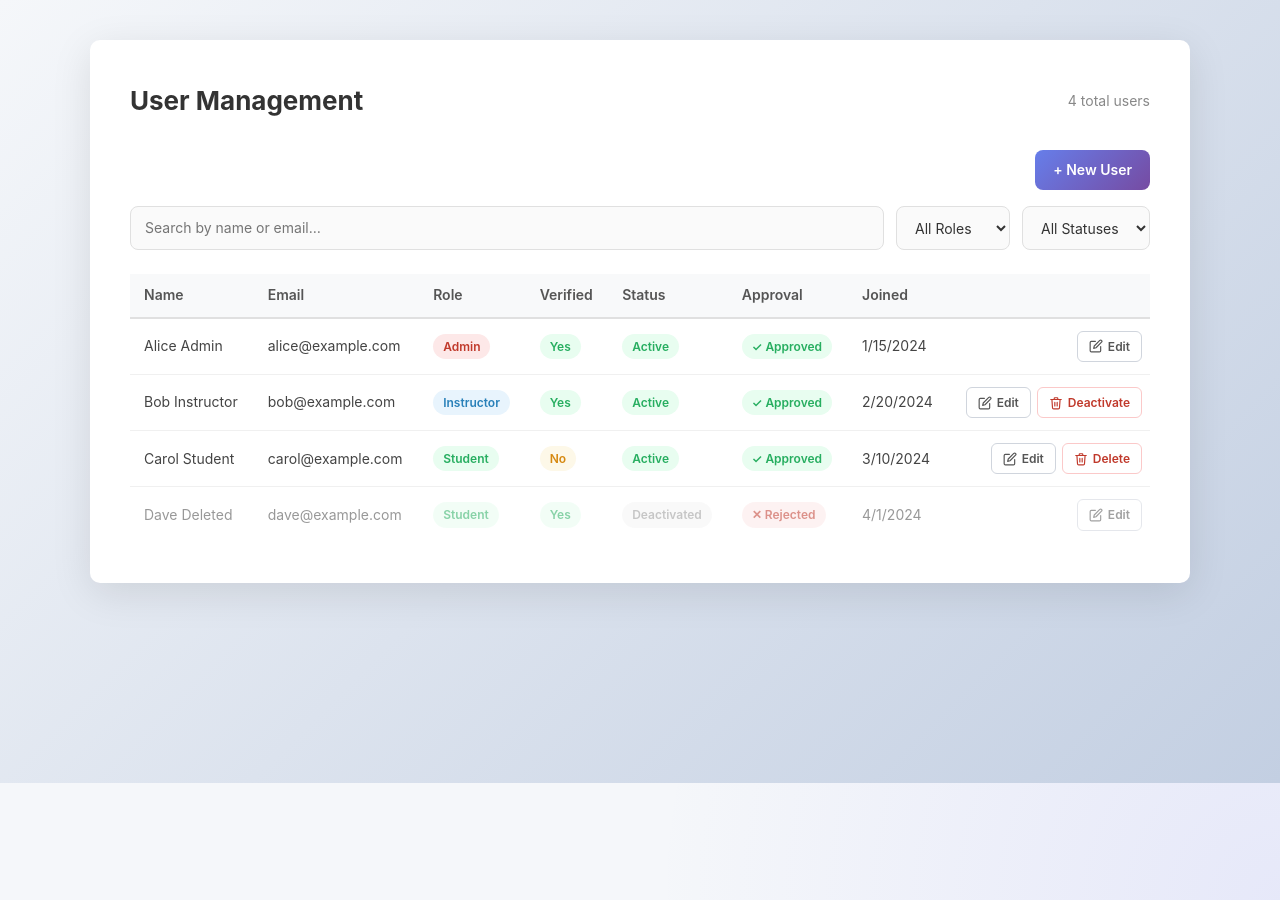
Test: UserList › role filter › filters to only instructors
Expected: the text "Alice Admin" is shown, [130,318,254,374]
Select "Instructor" in the dropdown named "filter by role" at point(953, 228), box [896,206,1010,250]
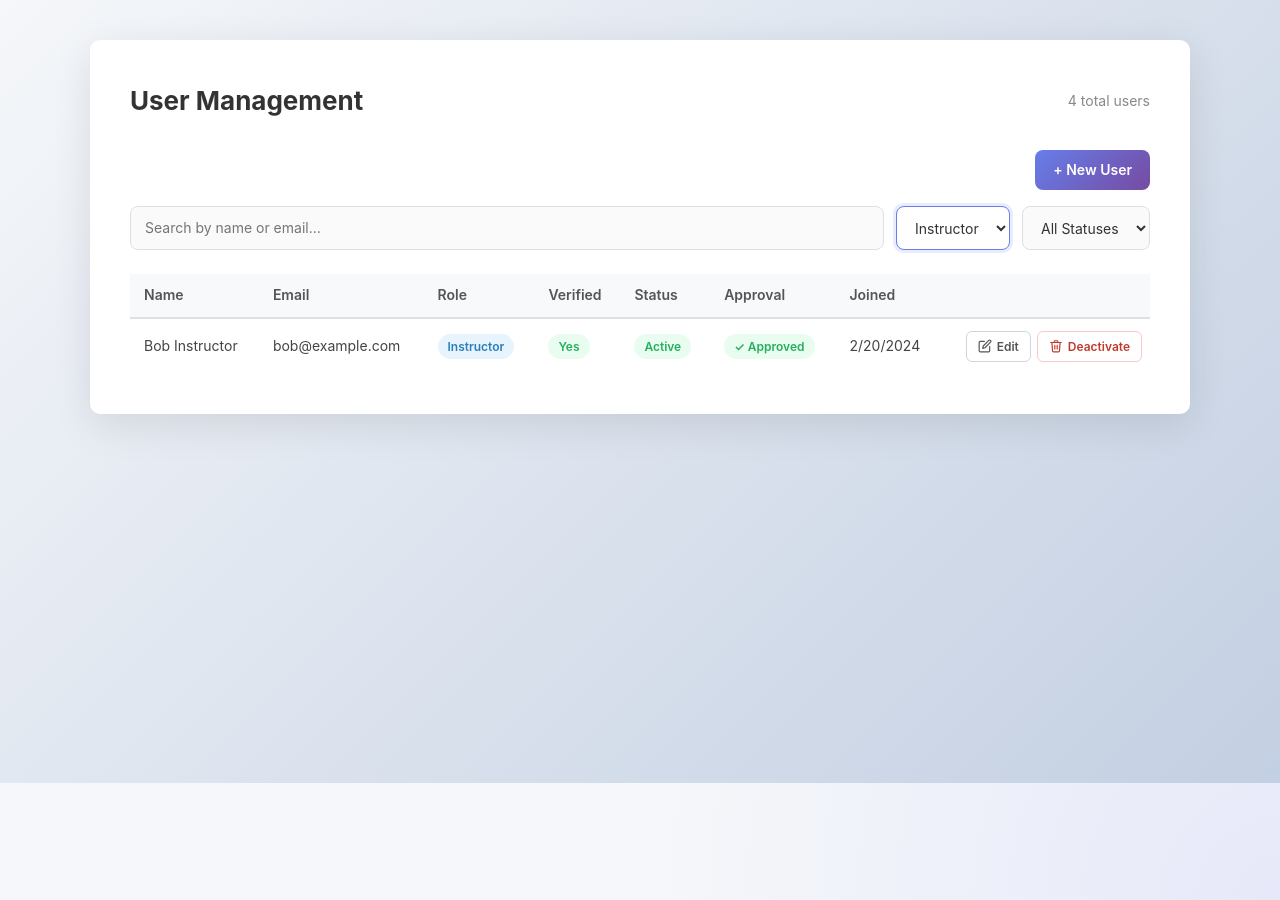
Expected: the text "Bob Instructor" is shown, [130,318,259,374]
Expected: the text "Alice Admin" is gone
